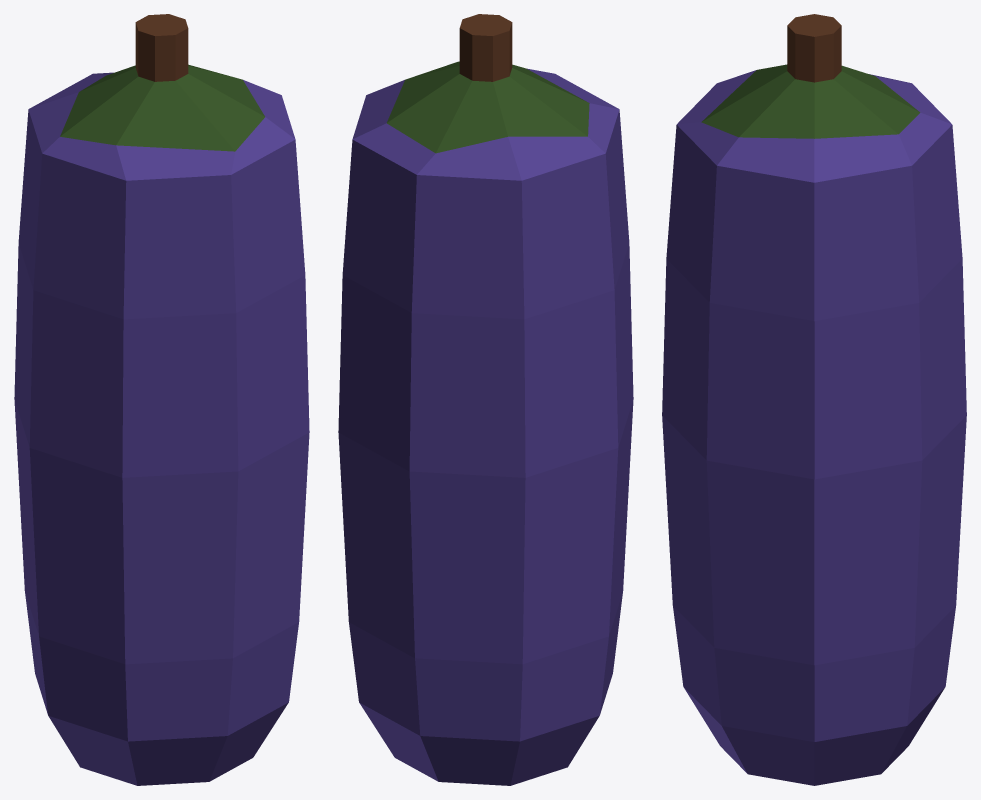
File: Eggplant_2.fbx
The picture shows the model from 3 angles, left to right: view 1: azimuth 30°, elevation 25°; view 2: azimuth 150°, elevation 25°; view 3: azimuth 270°, elevation 25°; orthographic projection.
Parts seen in each view (by area): view 1: Eggplant_2; view 2: Eggplant_2; view 3: Eggplant_2.
Boxes of the visible parts, <box> form: Eggplant_2: <box>14,14,309,785</box>; Eggplant_2: <box>338,14,633,785</box>; Eggplant_2: <box>662,14,966,785</box>.
Size of the model in its own units: 17.15 by 45.68 by 17.15.
